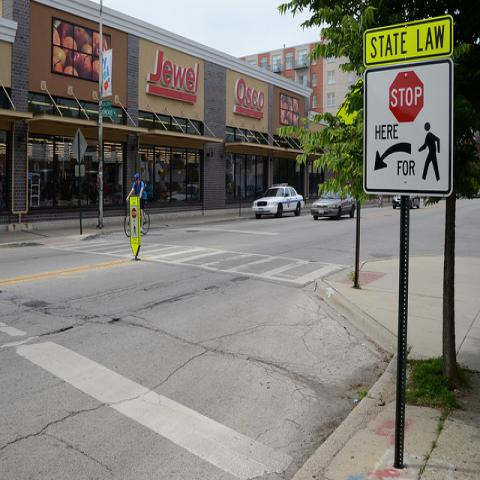car: (254, 186, 305, 220), (313, 185, 355, 220), (392, 195, 420, 210)
